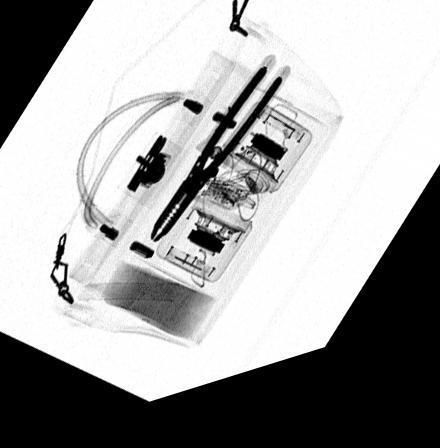Pliers: (149, 83, 281, 253)
